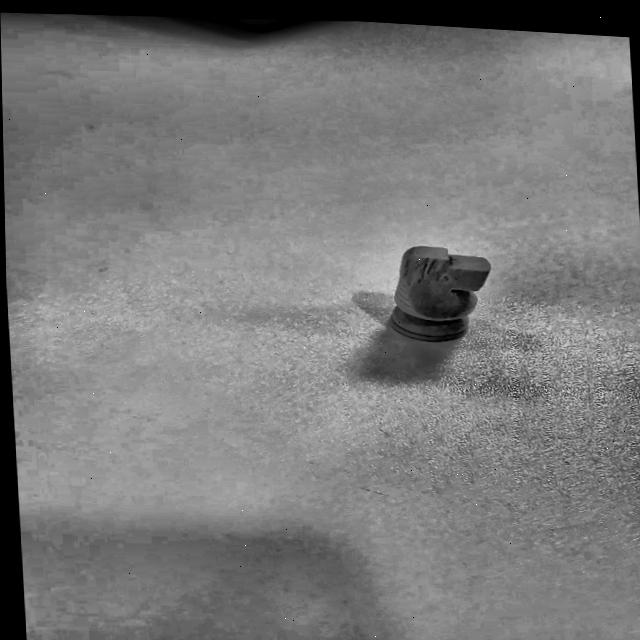white-knight: (361, 239, 518, 366)
